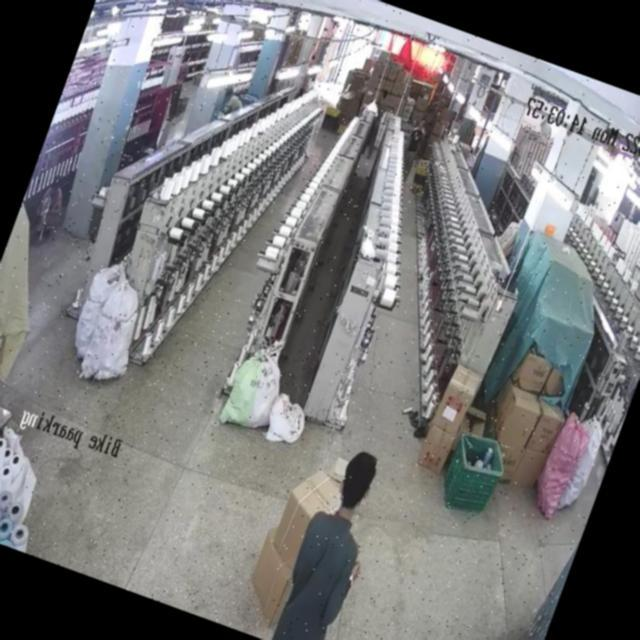person: (266, 448, 389, 640), (398, 113, 428, 163)
